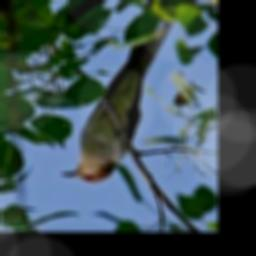Cuckoo: (61, 0, 172, 183)
